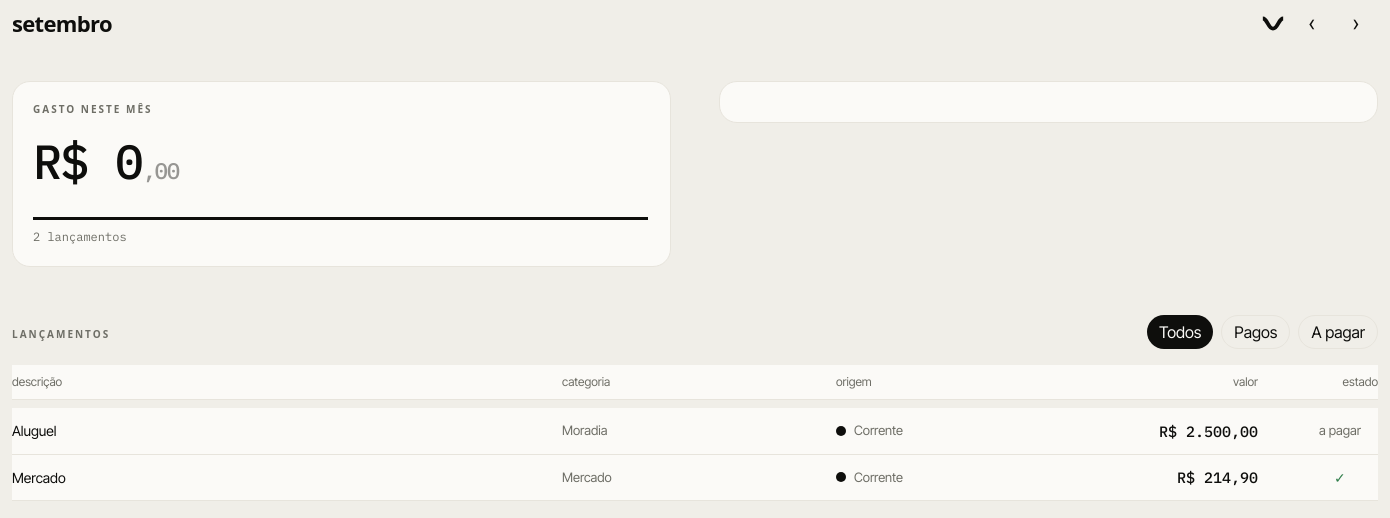
it: Mes › filtra pagos e a pagar
Check: the text "Aluguel" is shown, box left=12, top=422, right=56, bottom=439
Check: the 1st text "Mercado" is shown, box left=12, top=469, right=66, bottom=486
What coordinates should you click on to do the following:
click the button "Pagos"
I would click on:
 (1256, 332)
Its box is left=1221, top=315, right=1290, bottom=349.
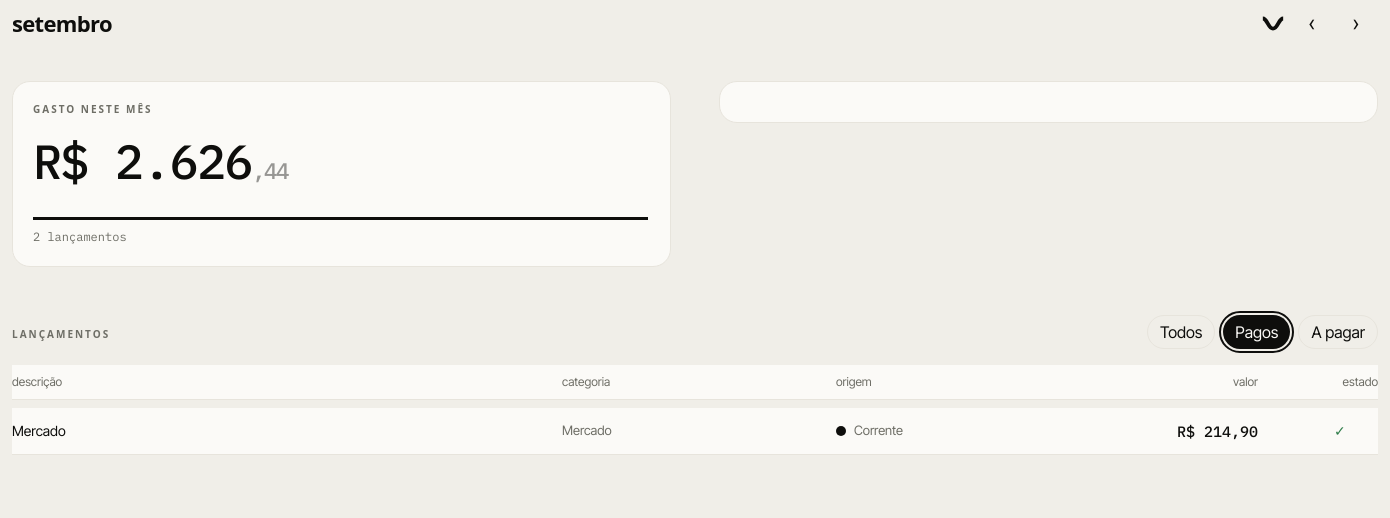
Check: the link "Mercado Mercado Corrente R$ 214,90 ✓" is shown, box left=12, top=422, right=1346, bottom=440
Check: the link "Aluguel" is gone
What coordinates should you click on to do the following:
click the button "A pagar"
I would click on:
 (1338, 332)
Its box is left=1298, top=315, right=1378, bottom=349.
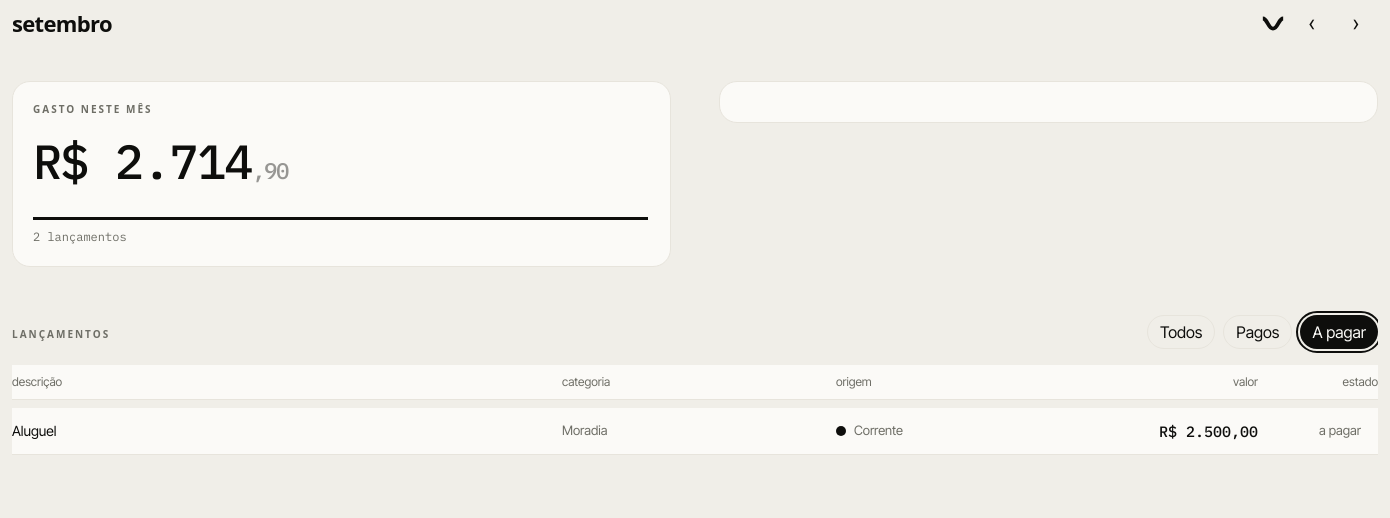
Check: the text "Aluguel" is shown, box left=12, top=422, right=56, bottom=439
Check: the link "Mercado" is gone
